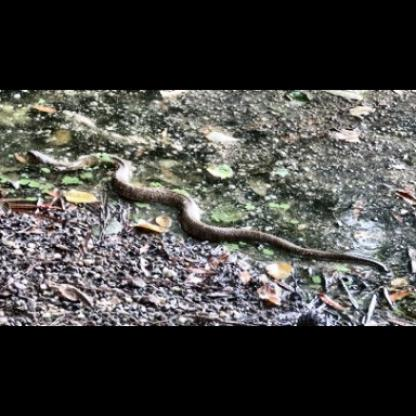Snake: (27, 150, 388, 274)
